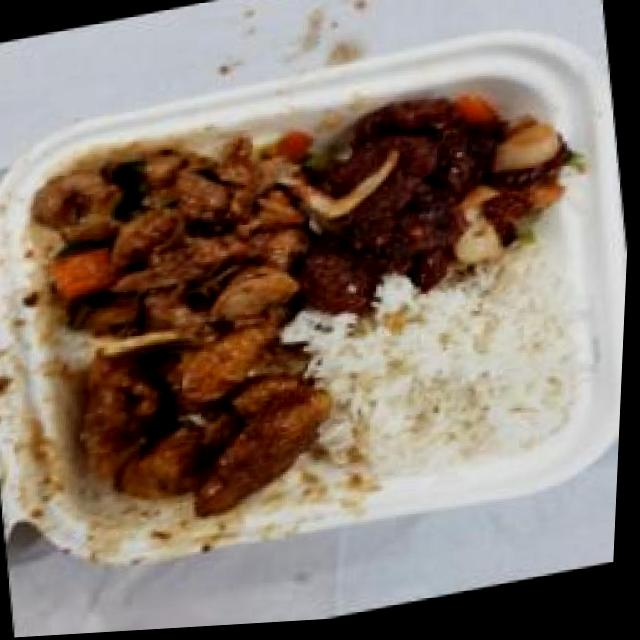Beijing Beef: (278, 70, 602, 334)
Kung Pao Chicken: (22, 112, 336, 371)
The Original Orange Chicken: (56, 308, 344, 545)
White Steamed Rice: (305, 254, 606, 501)
